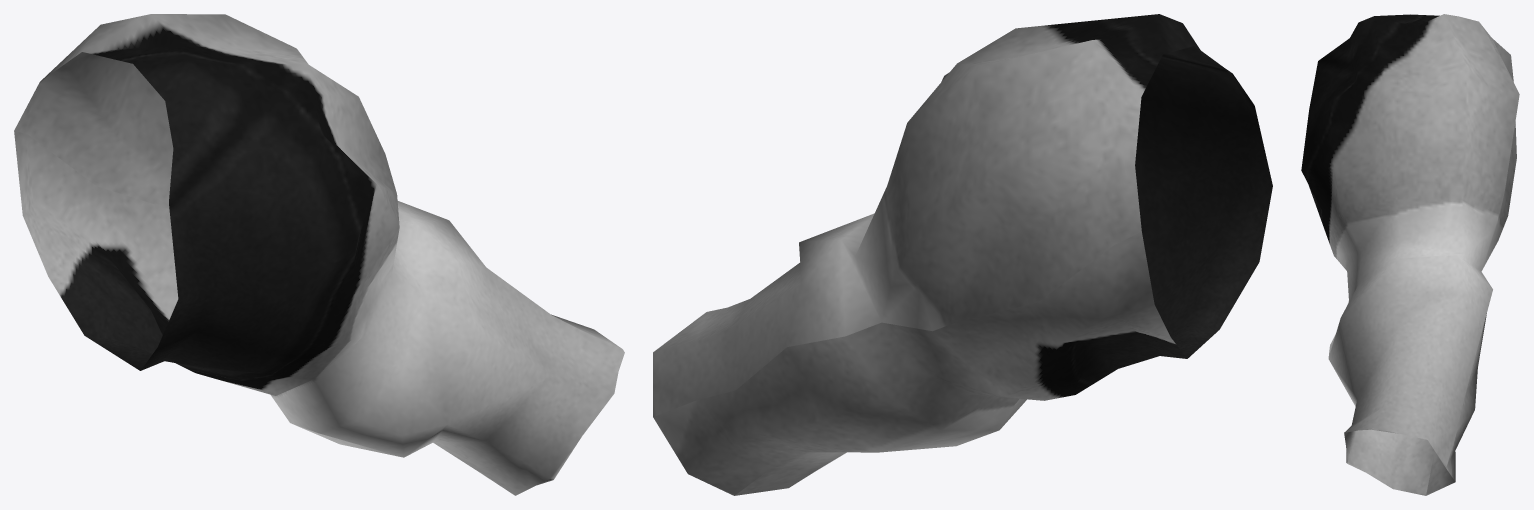
Rendered from Rarm1.obj.
3 views of the same model, side by side, from view 1: azimuth 30°, elevation 25°; view 2: azimuth 150°, elevation 25°; view 3: azimuth 270°, elevation 25° (orthographic). The views are drawn at different scales.
Visible parts, largest first — view 1: polySurface45 polySurface5 Nier2b:Cube; view 2: polySurface45 polySurface5 Nier2b:Cube; view 3: polySurface45 polySurface5 Nier2b:Cube.
Part boxes in pixels (<box>): polySurface45 polySurface5 Nier2b:Cube: <box>14,14,624,495</box>; polySurface45 polySurface5 Nier2b:Cube: <box>653,14,1272,495</box>; polySurface45 polySurface5 Nier2b:Cube: <box>1301,14,1519,495</box>.
Bounding box in the file's own units: 5.64 × 5.49 × 2.97.
